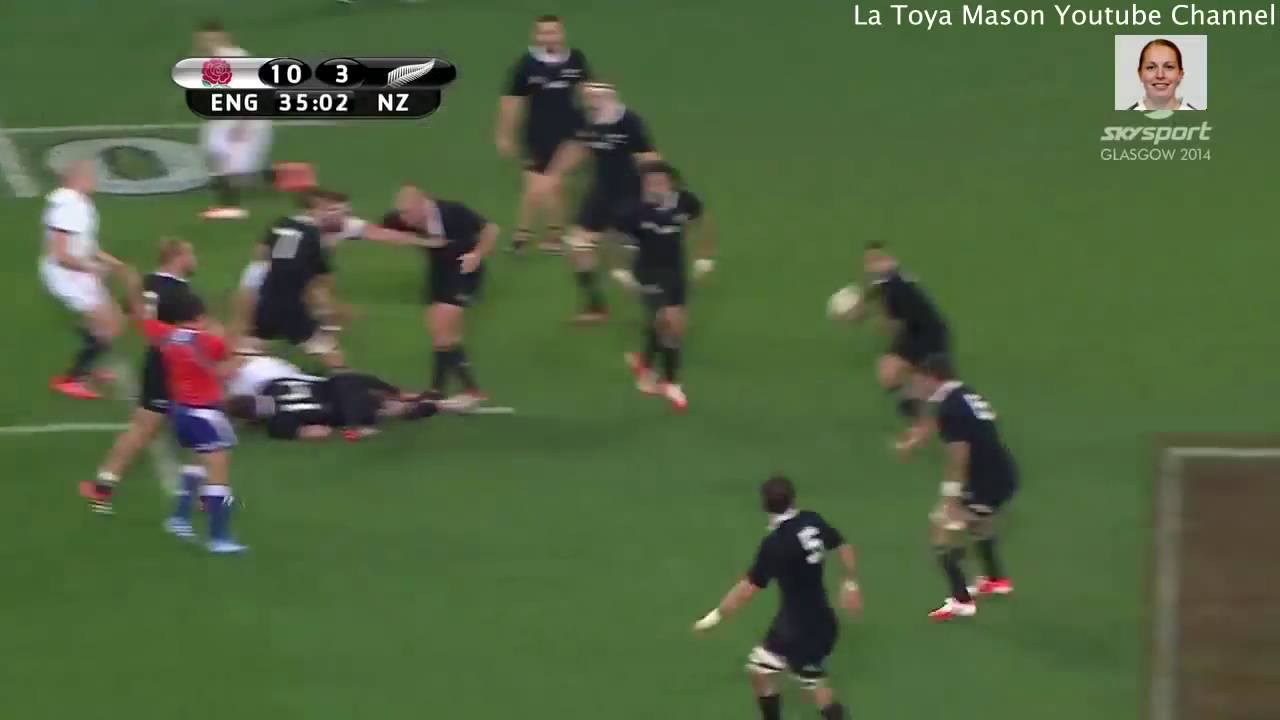ball: (825, 280, 865, 329)
player: (685, 465, 867, 720), (114, 267, 250, 565), (75, 226, 208, 523), (240, 172, 375, 458), (151, 7, 325, 214), (817, 233, 975, 460), (544, 69, 670, 350), (605, 151, 726, 431), (377, 170, 512, 416), (912, 347, 1023, 630), (499, 6, 601, 272), (29, 146, 121, 417)
